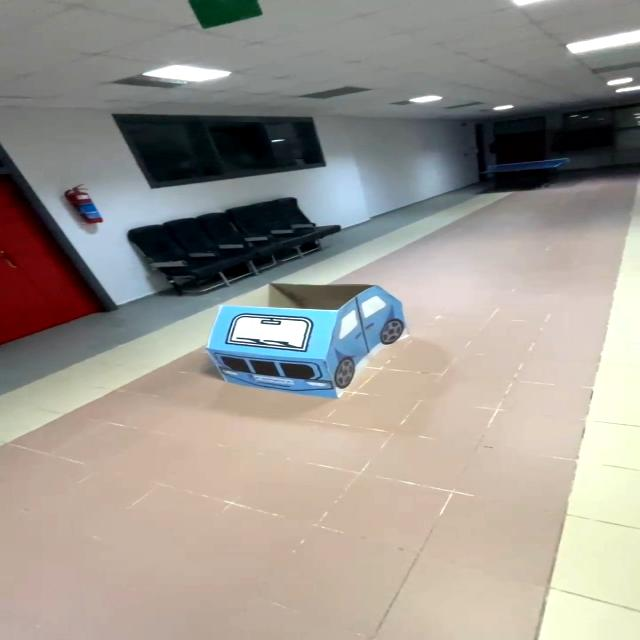blue_car: (198, 271, 423, 411)
